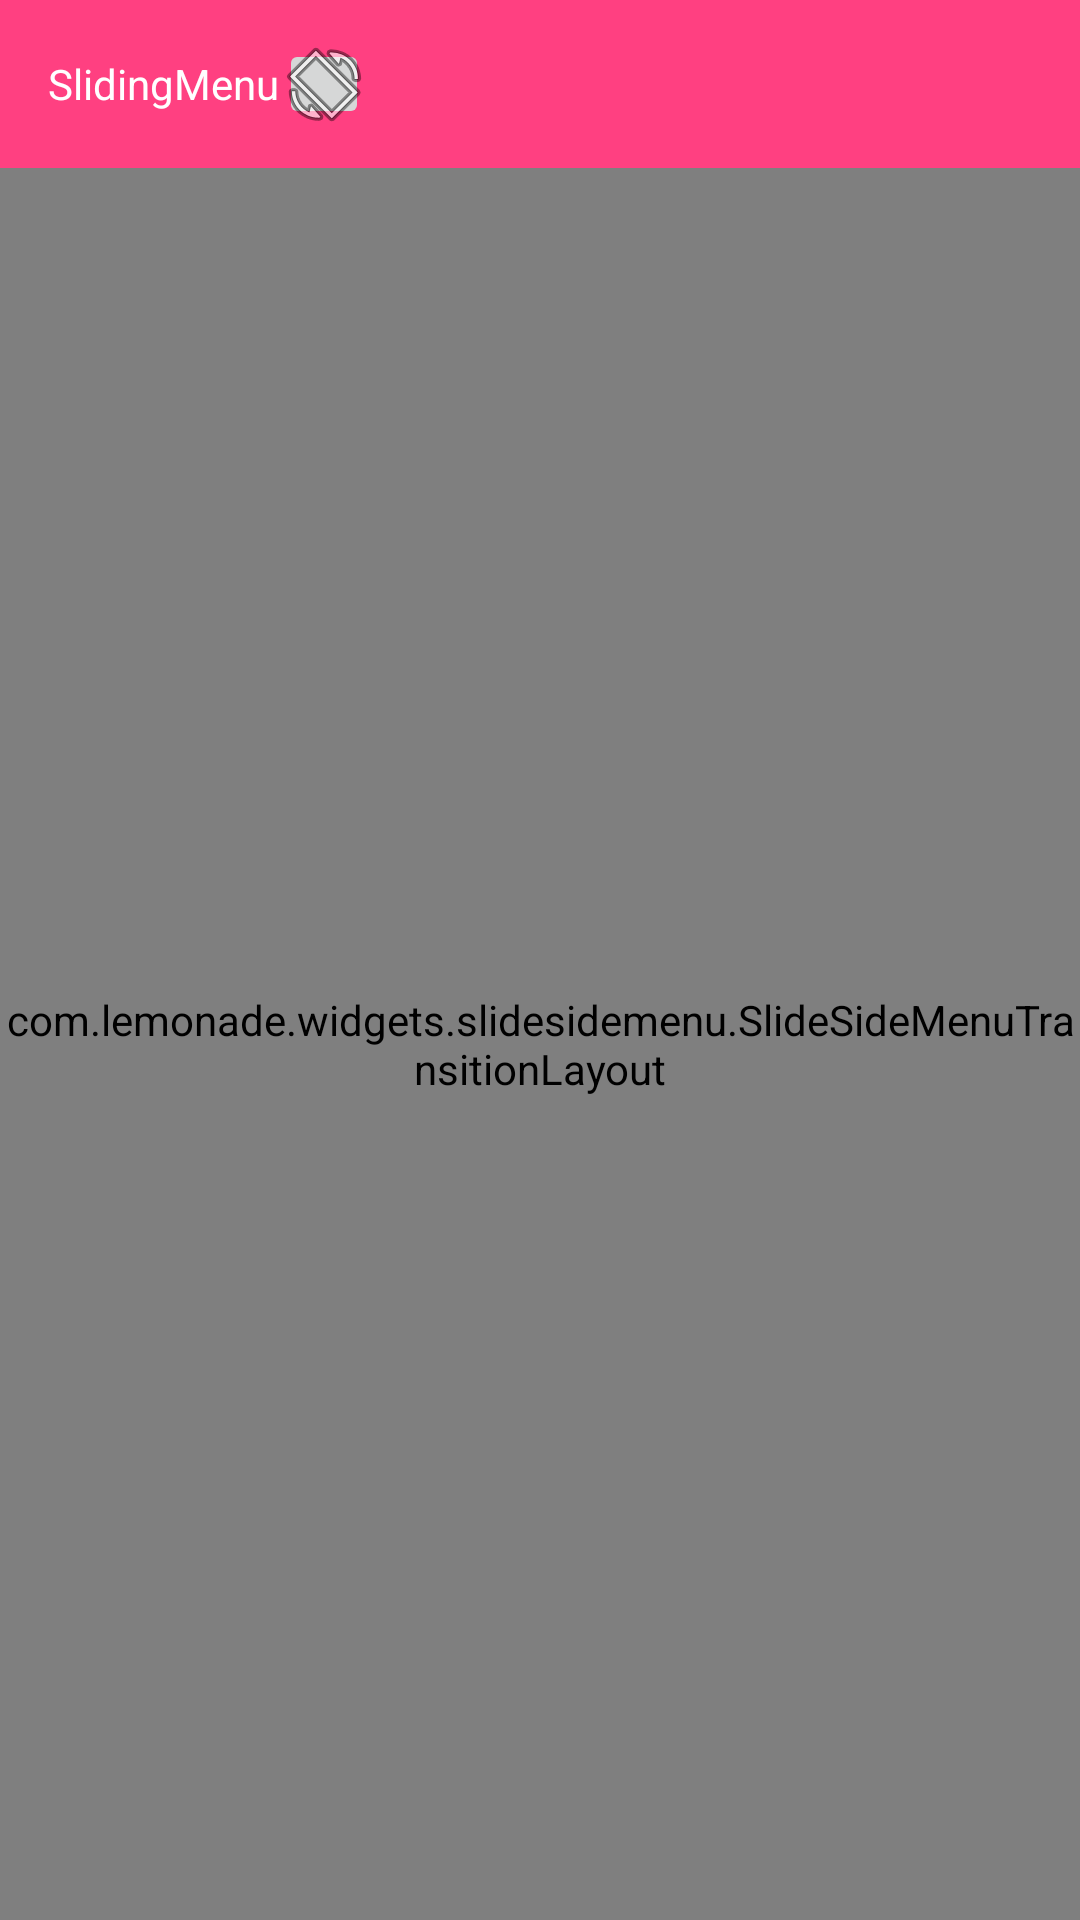

Icon bounding boxes for this 1080w x 1920h phone screenshot, format bbox(x1, y1, x2, y2):
always landscape portrait: bbox(287, 48, 361, 121)
